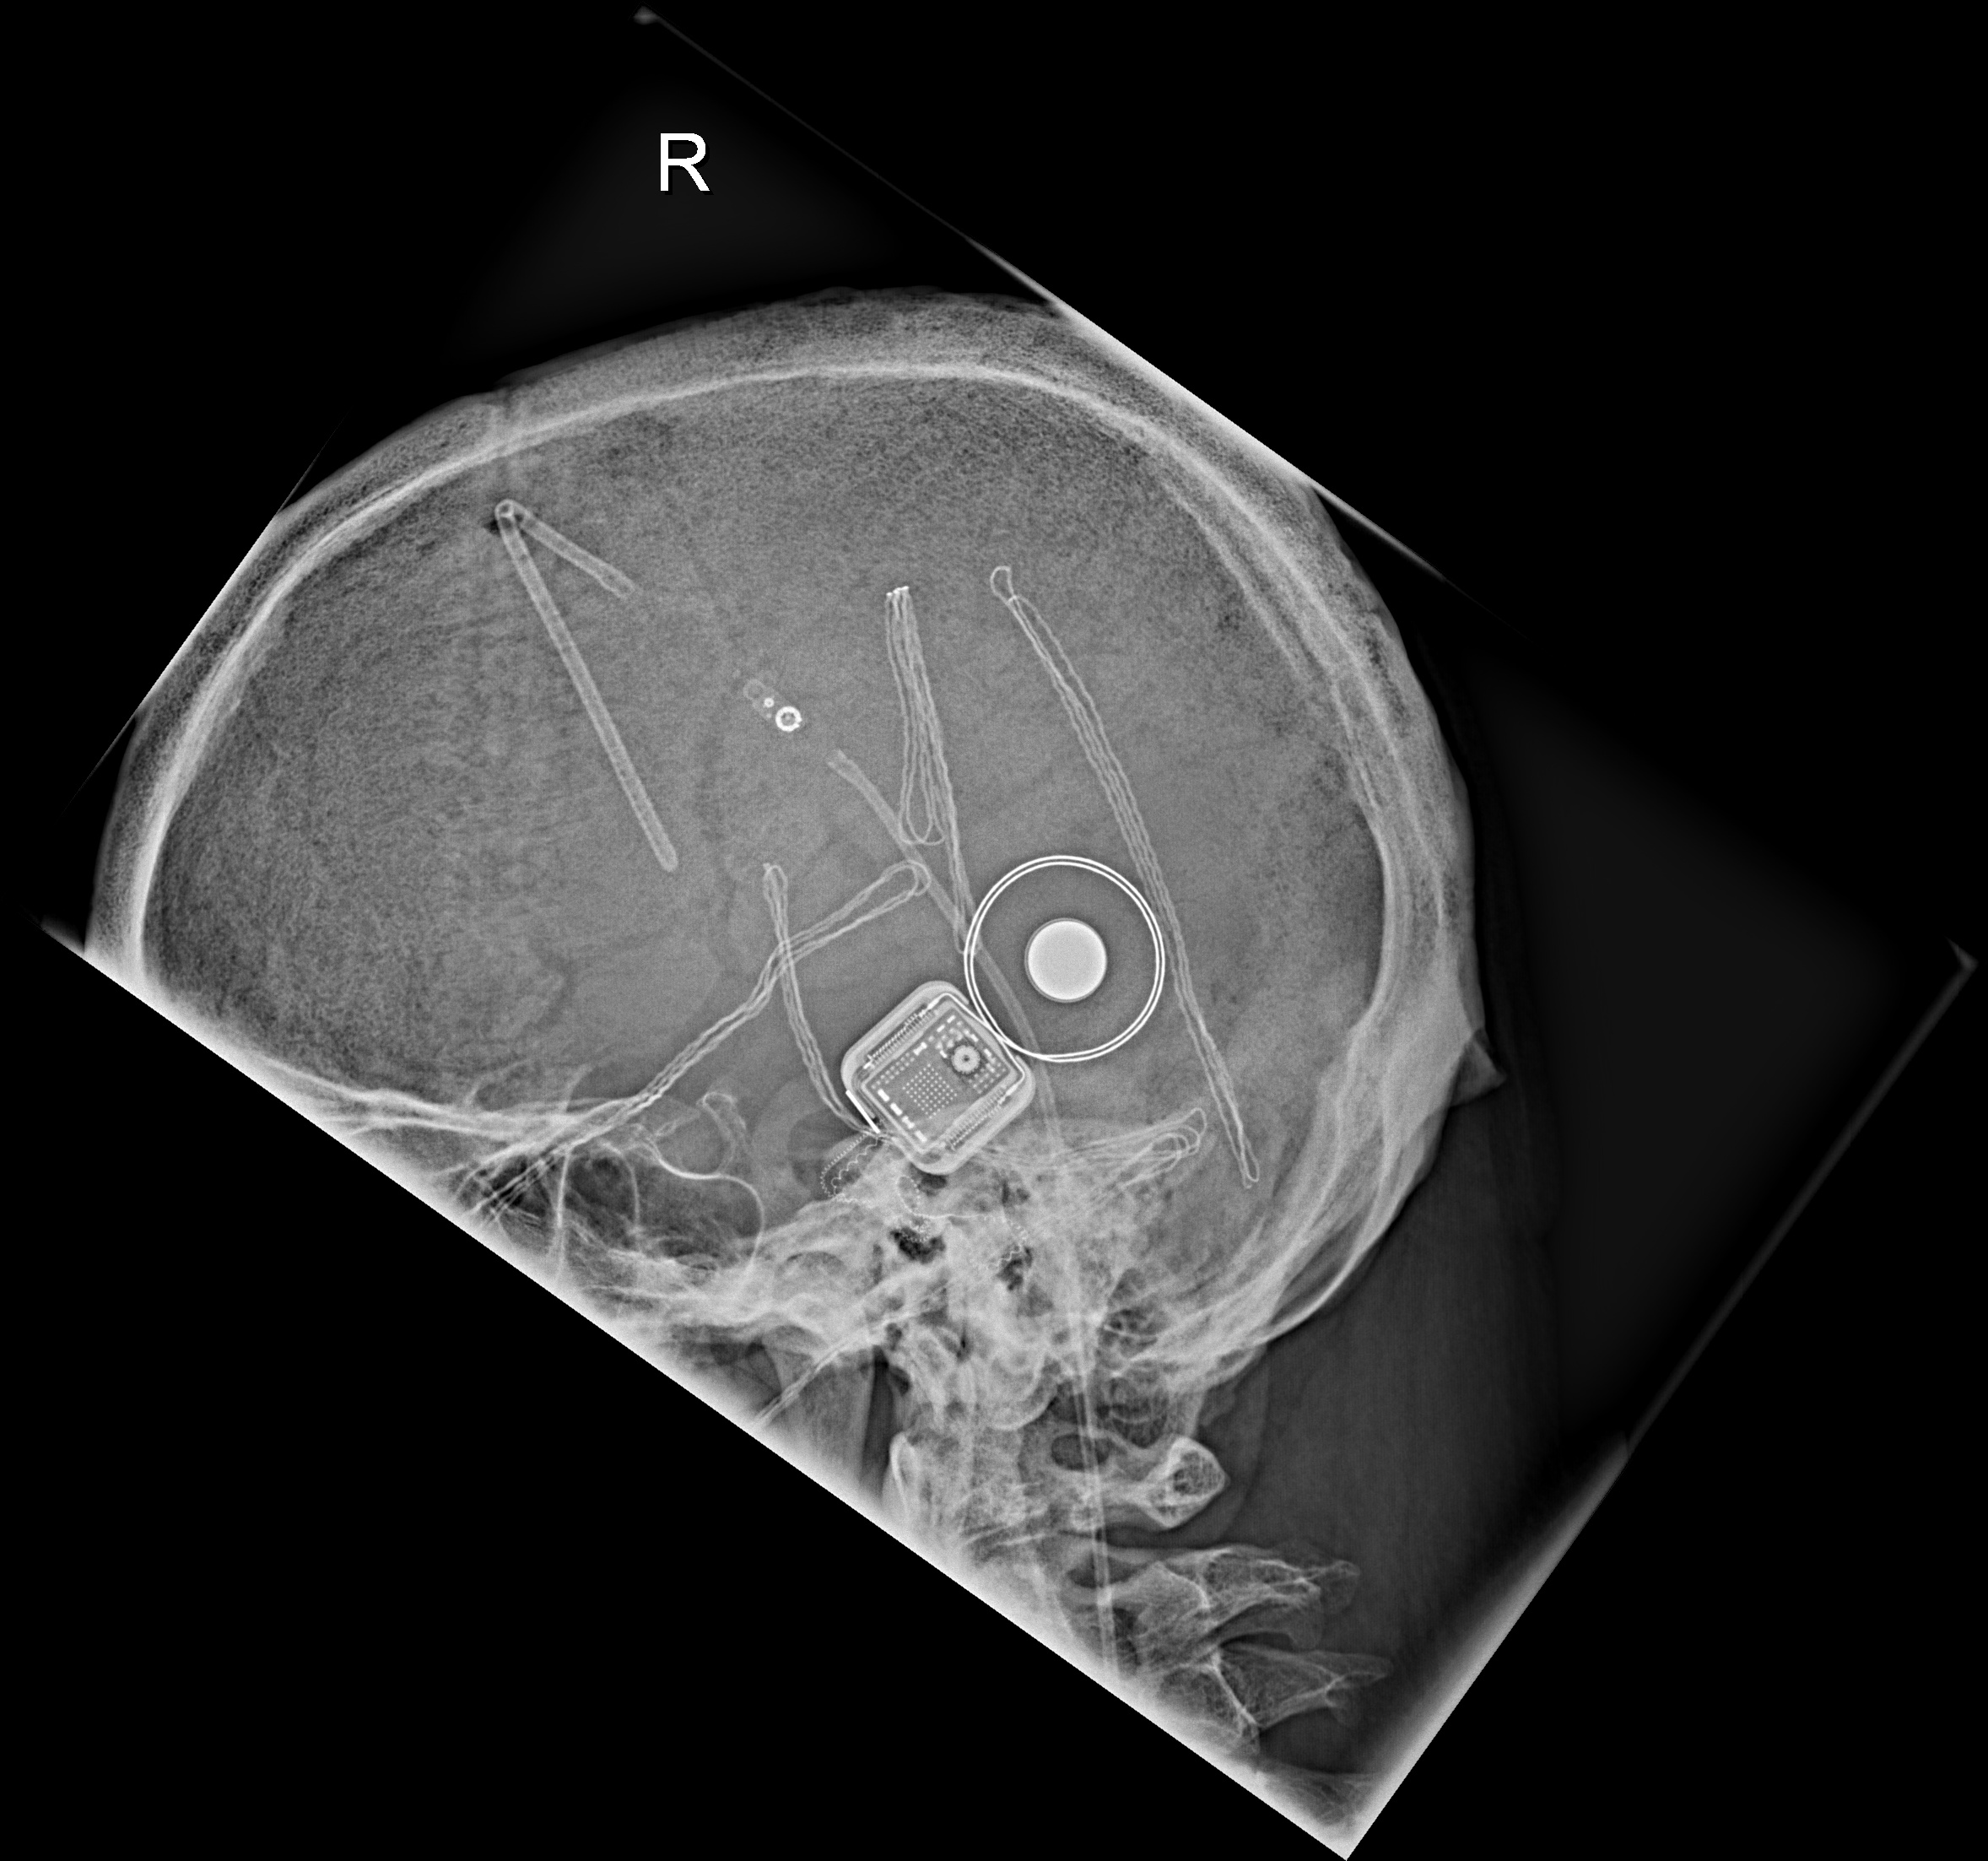Codman Hakim: (733, 675, 827, 761)
